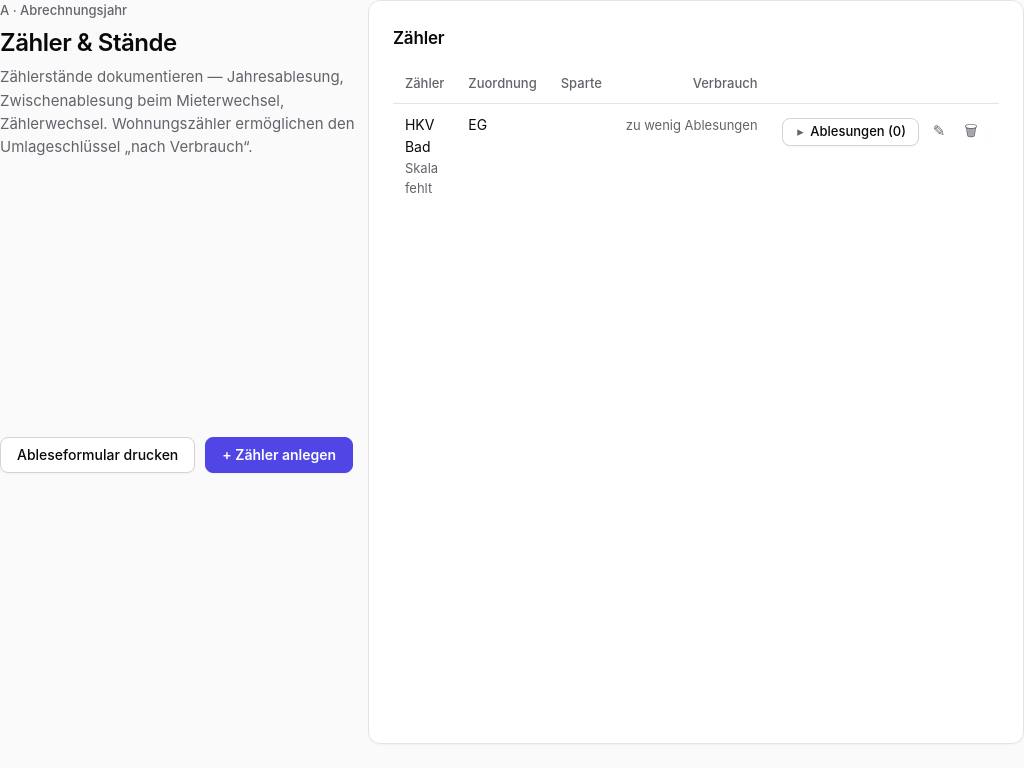
Scenario: Zählerwechsel am Heizkostenverteiler: kein Feld für das Eichjahr
Click the button "Ablesungen (0)": (850, 132) [782,118,919,146]
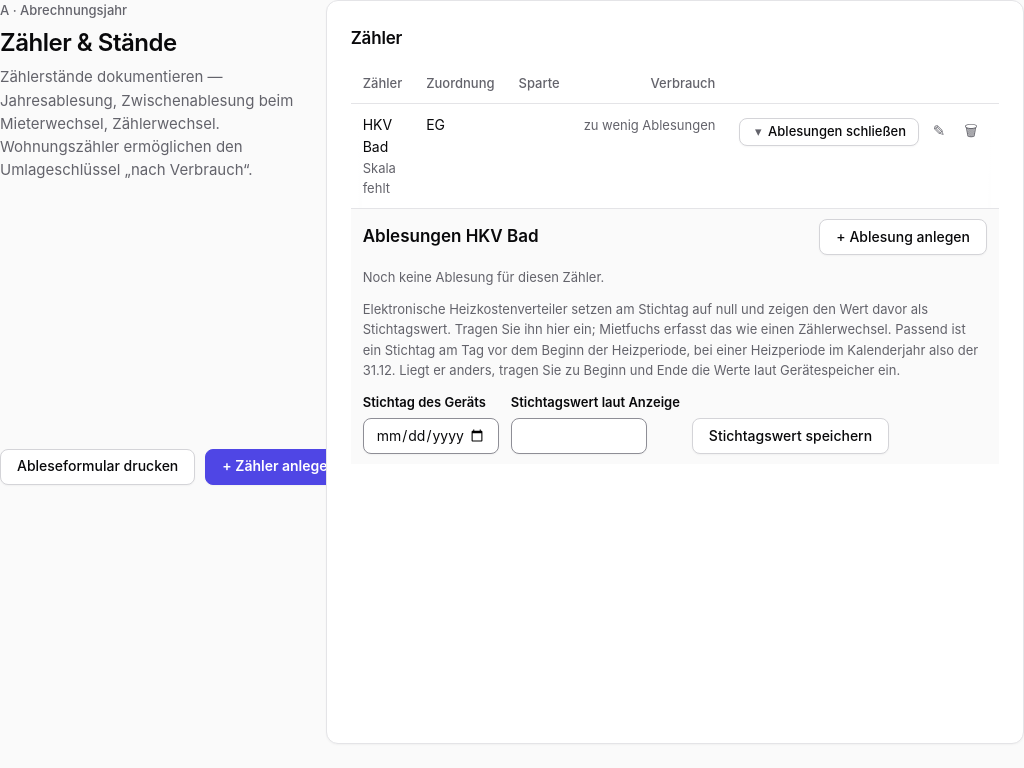
Click the button "+ Ablesung anlegen": (903, 237) [819,219,987,255]
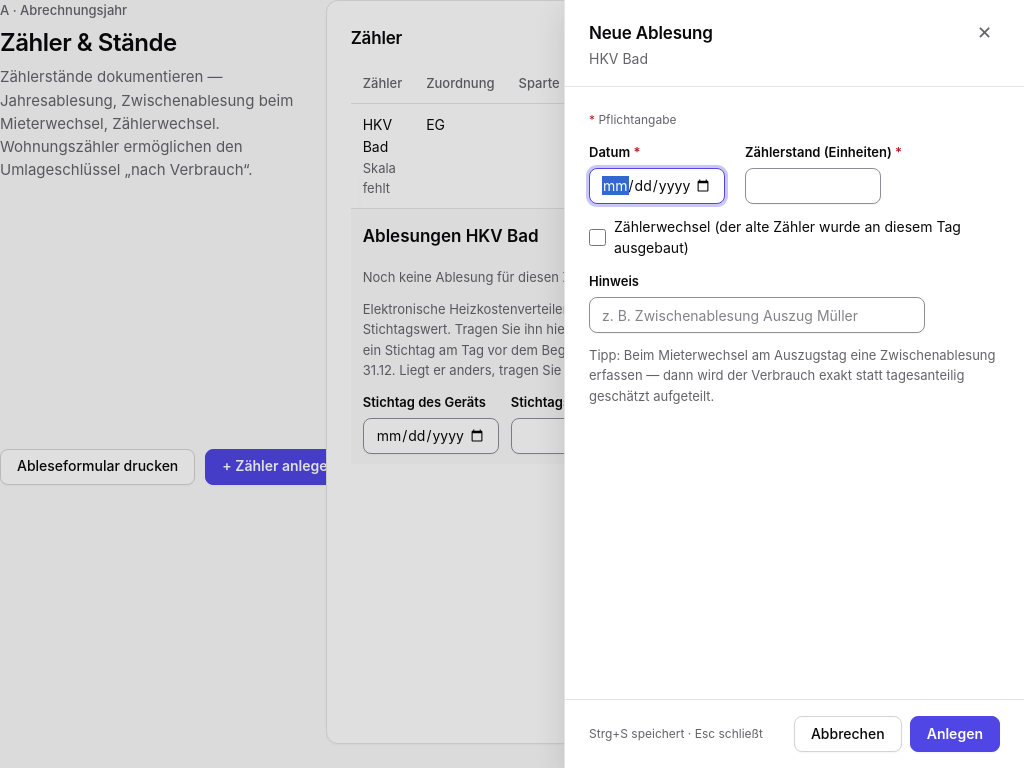
Click the checkbox labelled "Zählerwechsel": (598, 238) [589,229,606,246]
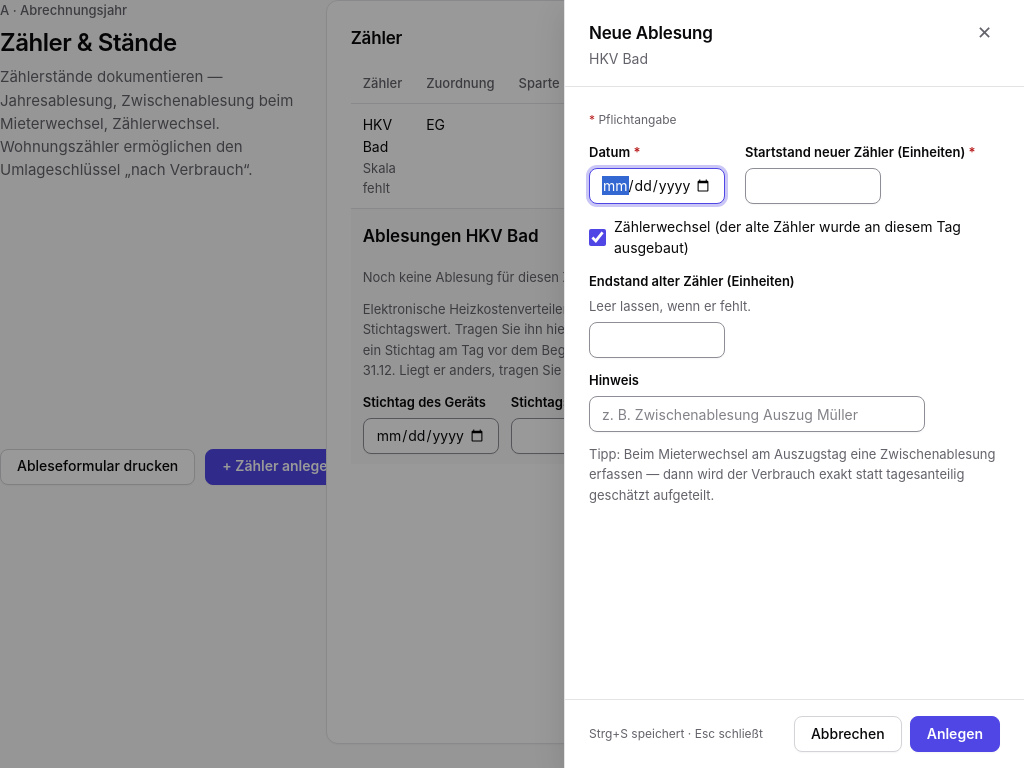
Expected: the field labelled "Endstand alter Zähler" is shown, [589,322,725,358]
